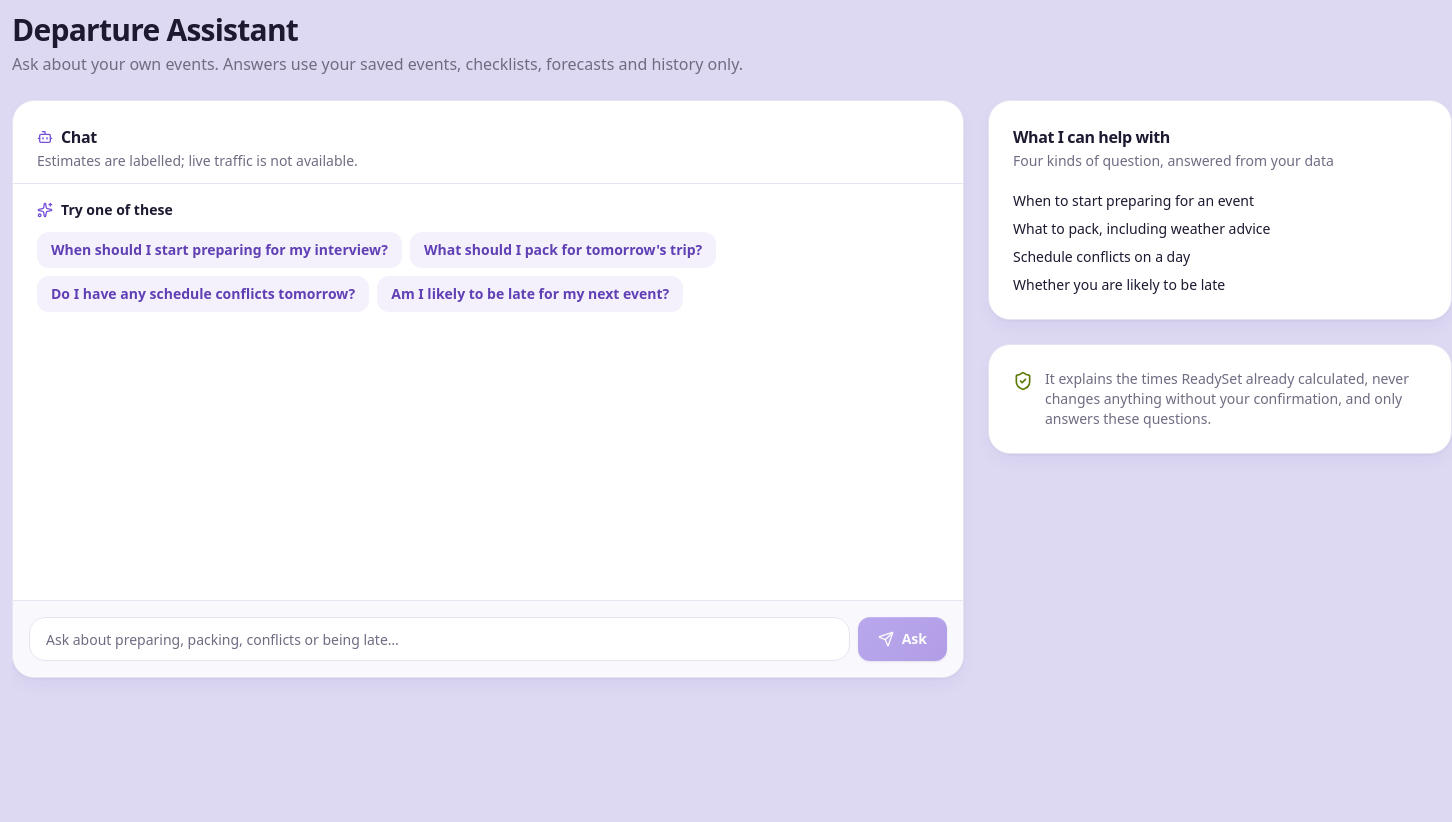
Test: assistant page › shows API failures (rate limit, offline) without breaking the page, and rejects tiny questions client-side
Expected: the button "Ask" is disabled, [858,617,947,661]
Type "when should I leave" into the field named "Your question" at (439, 639), box [29,617,850,661]
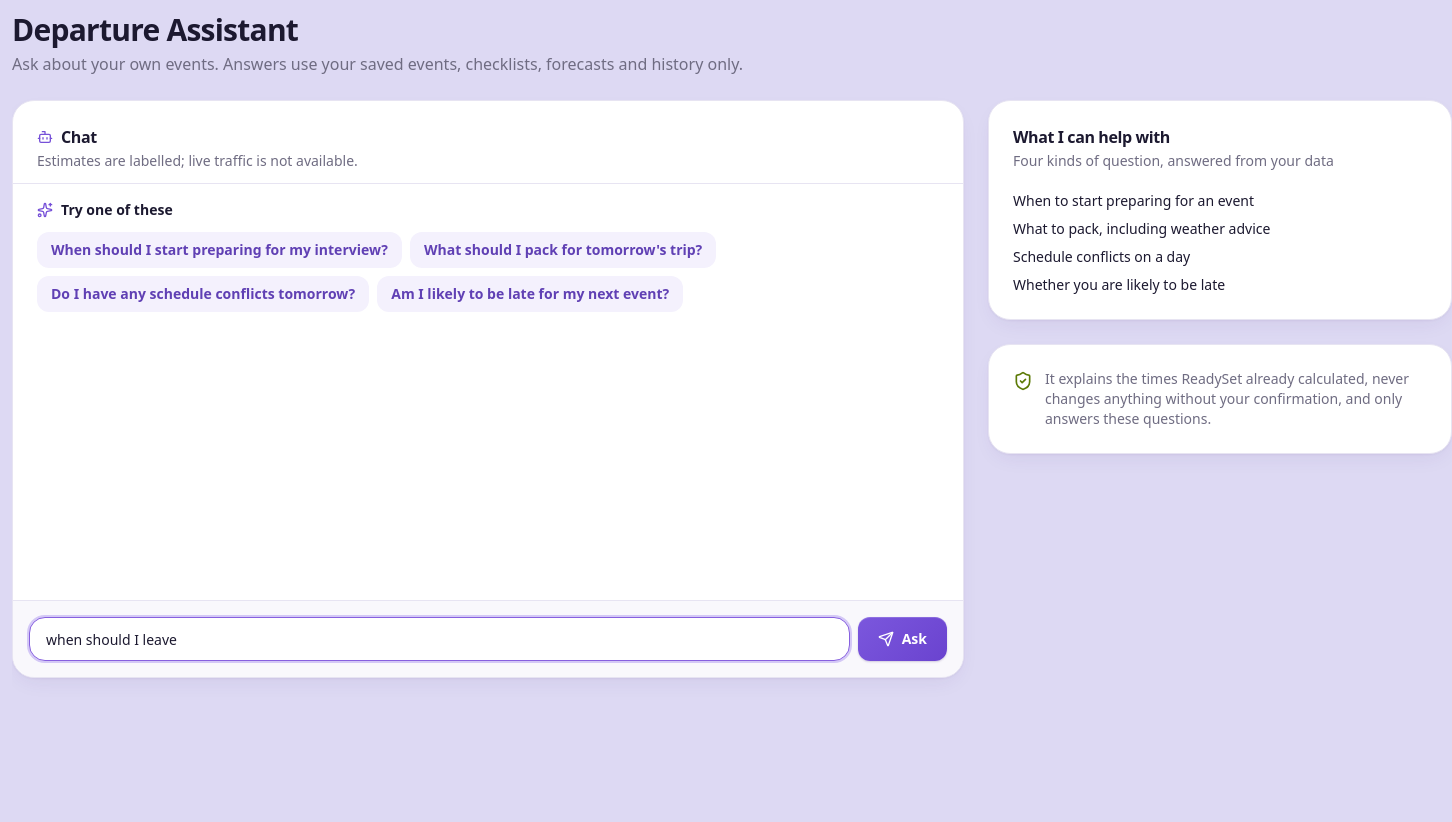
Click the button "Ask" at (902, 639), box [858,617,947,661]
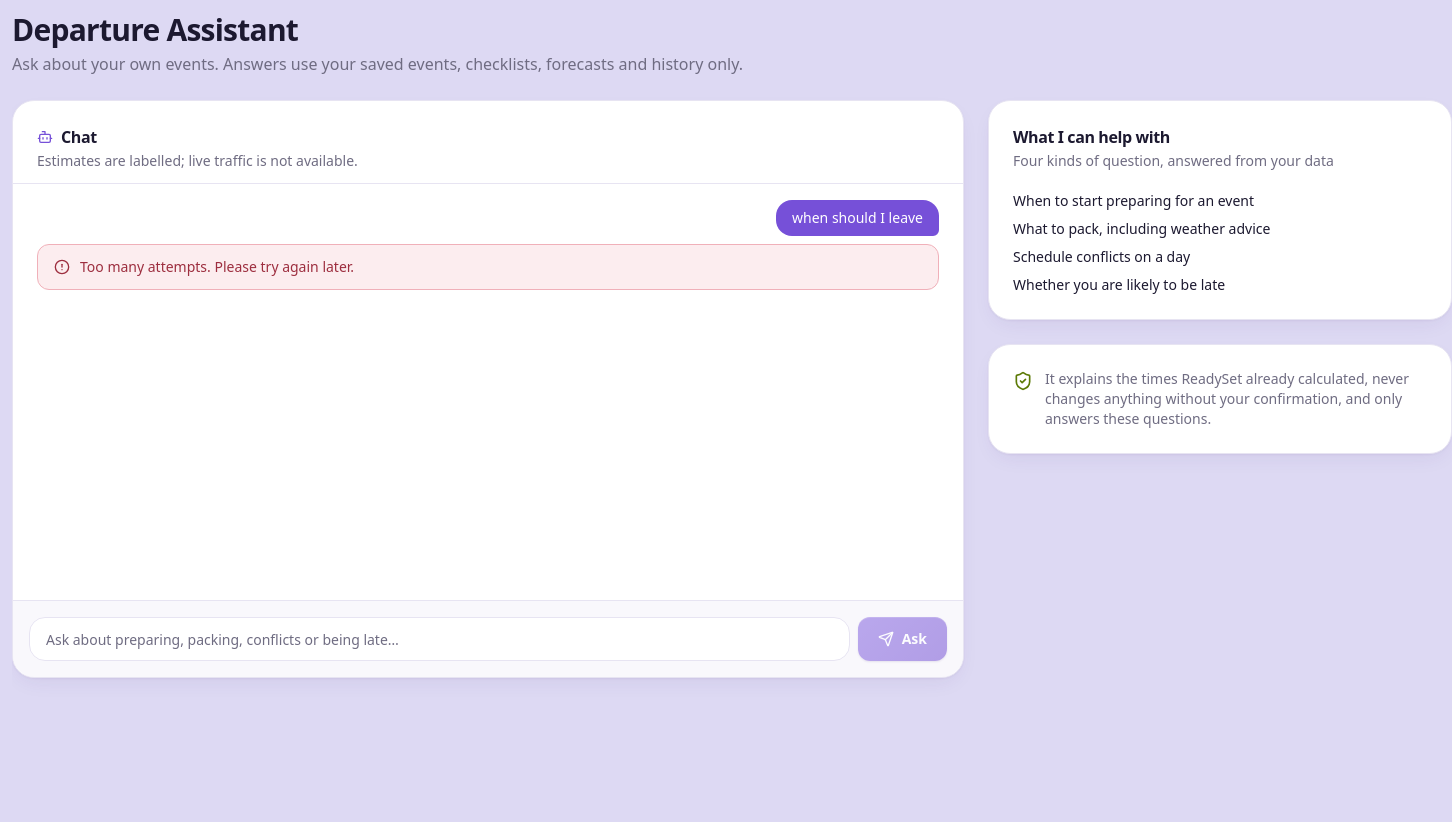
Result: the text "Too many attempts. Please try again later." is shown at [80,257,354,277]
